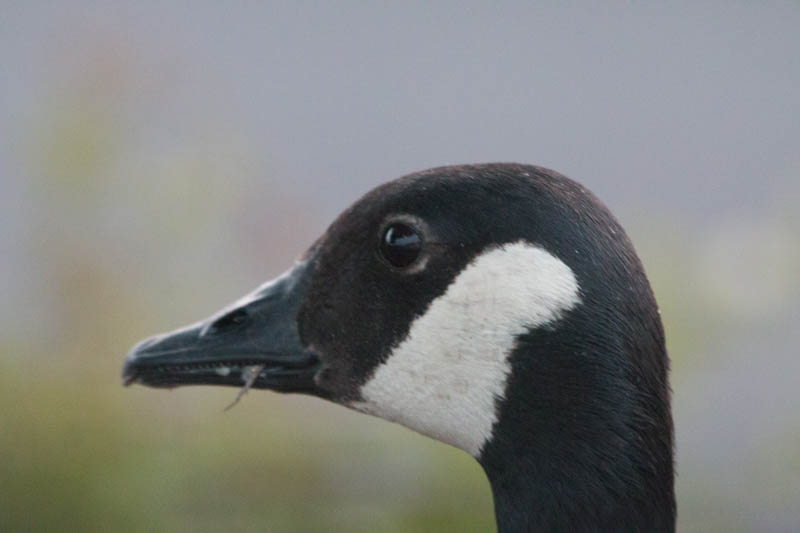goose-head: (122, 161, 674, 465)
